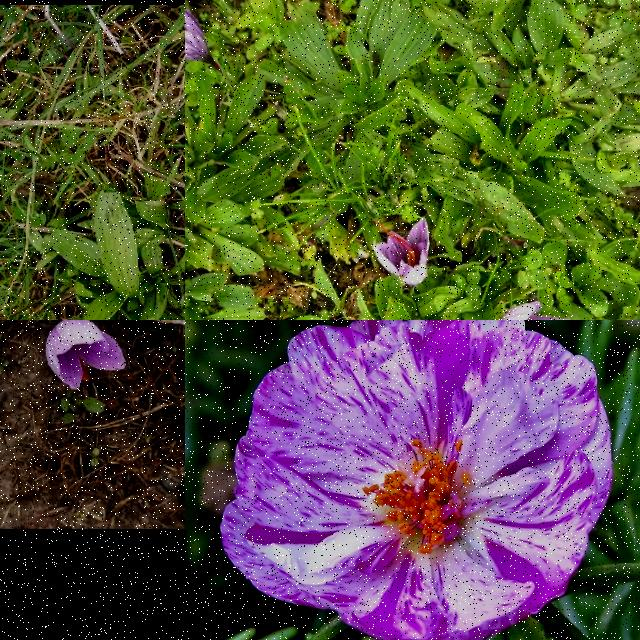flower: (46, 320, 126, 390), (373, 218, 431, 286), (185, 0, 220, 70), (497, 301, 572, 320)
